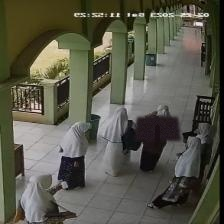Cadar_Niqab: (134, 104, 180, 140)
